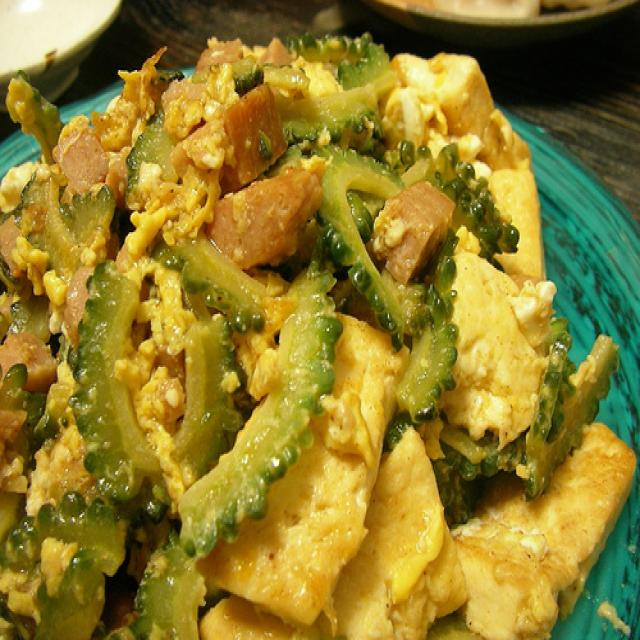熟制海鲜: (0, 15, 640, 640)
